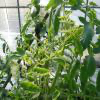Tomato leaf yellow virus: (20, 81, 44, 94), (10, 59, 22, 83), (53, 54, 67, 70), (31, 66, 53, 76), (75, 39, 84, 56), (50, 89, 62, 99), (75, 25, 84, 38), (23, 52, 31, 65), (65, 34, 75, 44)
